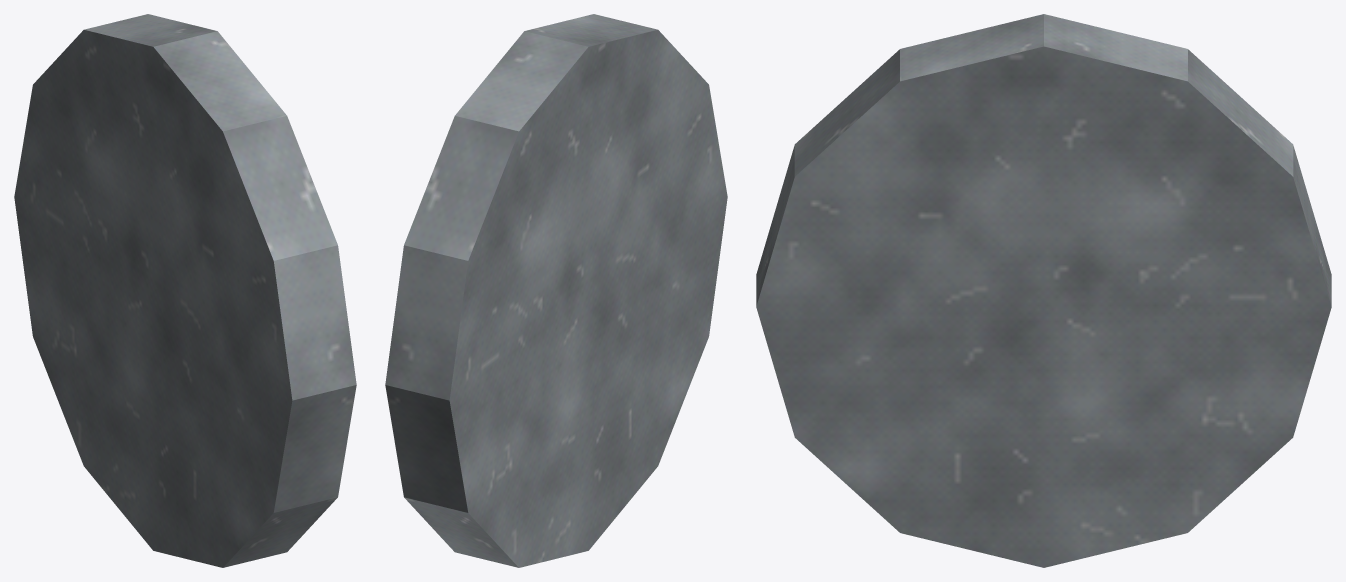
The model's file is CircularSawBlade.fbx.
The picture shows the model from 3 angles, left to right: view 1: azimuth 30°, elevation 25°; view 2: azimuth 150°, elevation 25°; view 3: azimuth 270°, elevation 25°; orthographic projection. The views are drawn at different scales.
Visible parts, largest first — view 1: CircularSawBlade; view 2: CircularSawBlade; view 3: CircularSawBlade.
Boxes of the visible parts, x1,y1,x2,y2 form: CircularSawBlade: [14, 14, 356, 567]; CircularSawBlade: [385, 14, 727, 567]; CircularSawBlade: [756, 14, 1331, 567].
Size of the model in its own units: 0.0349 by 0.2613 by 0.2613.
1 material, 1 textured.
